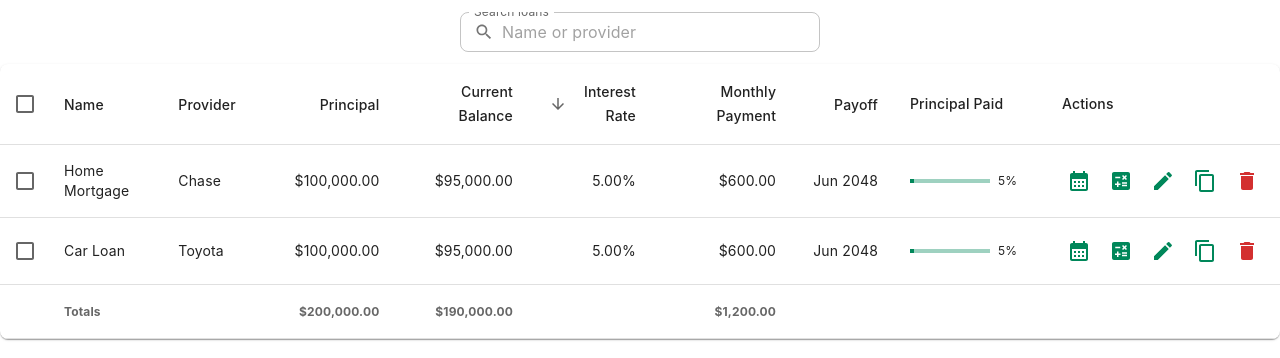
it: LoanTable (roadmap 6.4) › filters rows by the search query (name or provider)
Type "toyota" into the field labelled "Search loans" at [661, 32], box left=502, top=12, right=820, bottom=52
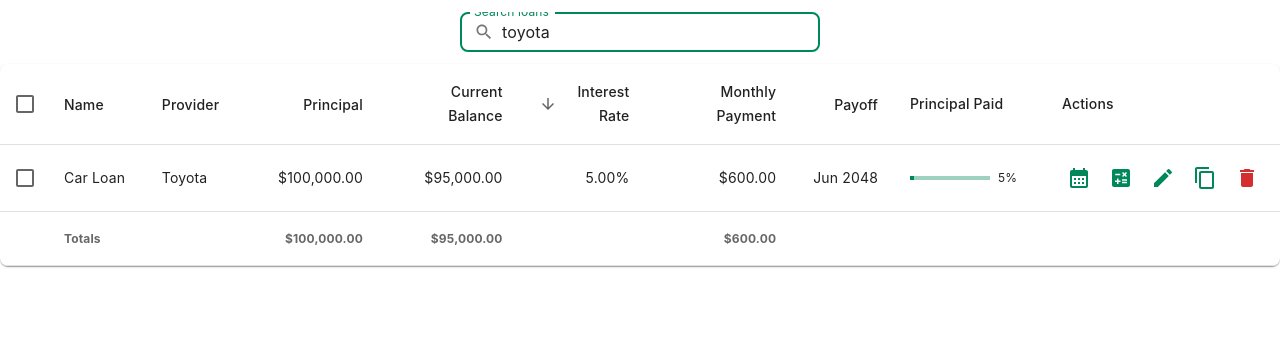
Expected: the text "Car Loan" is shown, left=48, top=144, right=146, bottom=212
Now the text "Home Mortgage" is gone
